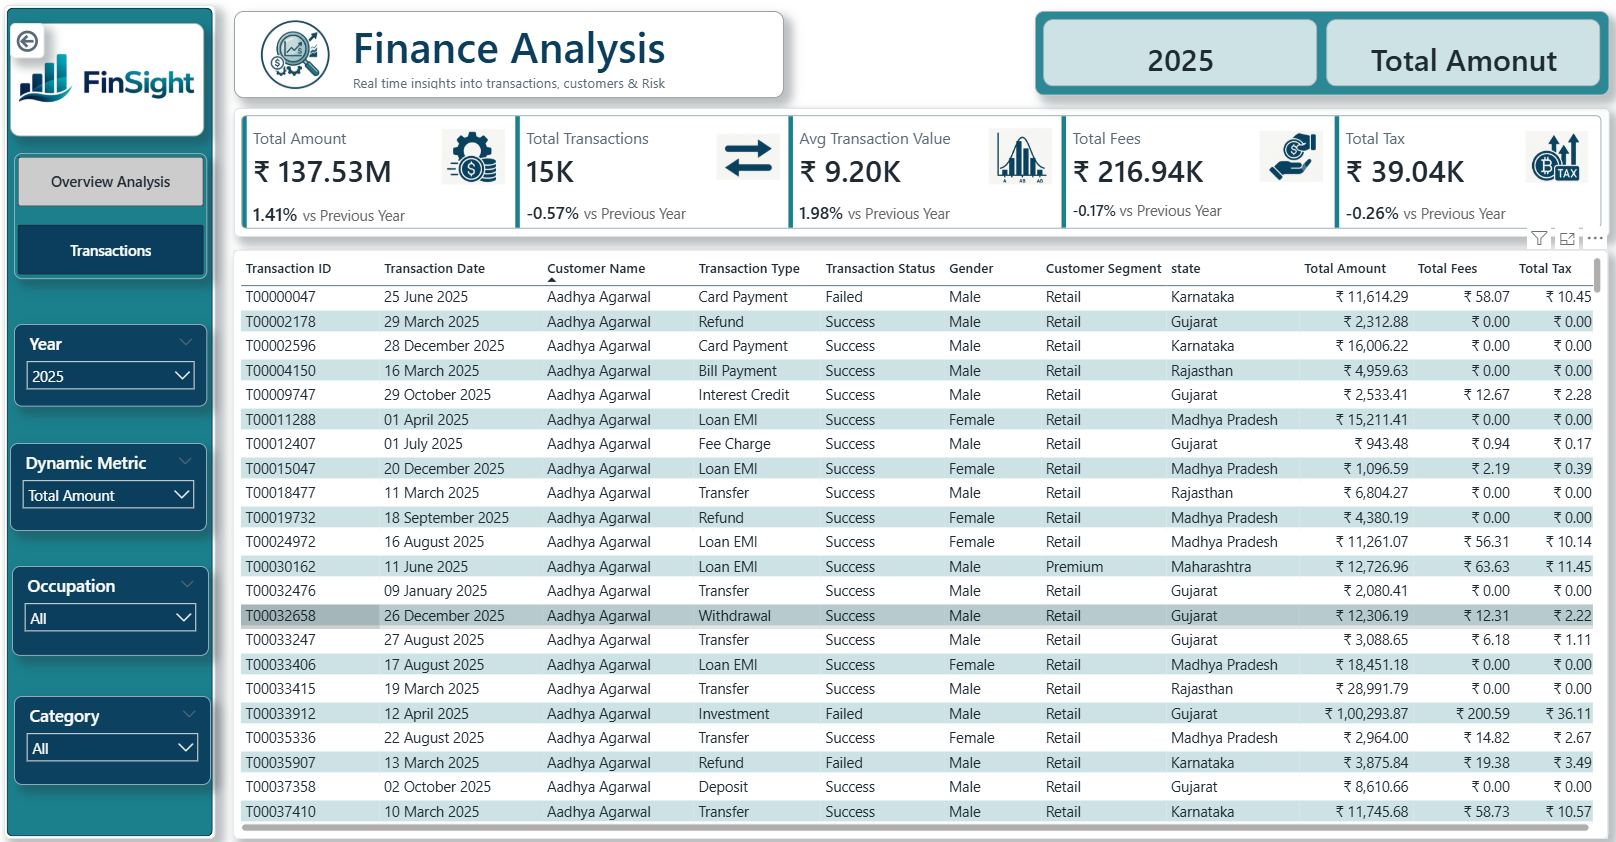

This screenshot's page, from the dashboard's own definition file:
{"tool":"powerbi","page":{"name":"Transactions","canvas":[1800,950],"ordinal":1},"visuals":[{"type":"shape","box":[9.7,18.2,232.9,919.4],"z":0},{"type":"card","fields":{"Values":["finance_transactions.Dashboard Title"]},"box":[263.7,25.5,606.4,95.5],"z":1000},{"type":"slicer","fields":{"Values":["Calendar Table.Year"]},"box":[20.6,369.9,213.5,91],"z":2000},{"type":"cardVisual","fields":{"Data":["finance_transactions.Total Amount","finance_transactions.Total Transactions","finance_transactions.Avg Transaction Value","finance_transactions.Total Fees","finance_transactions.Total Tax"]},"box":[263.2,132.2,1516.2,141.9],"z":3000},{"type":"slicer","fields":{"Values":["Dynamic Metric.Dynamic Metric"]},"box":[17,500.9,217.1,97],"z":4000},{"type":"cardVisual","fields":{"Data":["finance_transactions.Selected Year","finance_transactions.Selected Dynamic Metric"]},"box":[1146.5,25.5,633.1,93],"z":5000},{"type":"slicer","fields":{"Values":["customers.occupation"]},"box":[18.2,636.8,217.1,99.5],"z":6000},{"type":"slicer","fields":{"Values":["finance_transactions.merchant_category"]},"box":[20.6,779.9,217.1,98.2],"z":7000},{"type":"pageNavigator","box":[20.6,181.9,213.5,139.5],"z":8000},{"type":"image","box":[16.6,38.2,214,124.8],"z":9000},{"type":"tableEx","fields":{"Values":["finance_transactions.transaction_id","finance_transactions.transaction_date","customers.Customer Name","finance_transactions.transaction_type","finance_transactions.transaction_status","customers.gender","customers.customer_segment","customers.state","finance_transactions.Total Amount","finance_transactions.Total Fees","finance_transactions.Total Tax"]},"box":[262,288.7,1516.2,648.9],"z":10000},{"type":"actionButton","box":[16.6,38.2,38.2,39.5],"z":11000},{"type":"image","box":[486.6,145.2,80.3,80.3],"z":12000},{"type":"image","box":[1090.4,145.2,80.3,80.3],"z":13000},{"type":"image","box":[789.8,145.2,80.3,80.3],"z":14000},{"type":"image","box":[1388.5,145.2,80.3,80.3],"z":15000},{"type":"image","box":[1681.5,146.5,79,79],"z":16000},{"type":"image","box":[271.3,28,112.1,90.4],"z":16001}]}

Visuals, with their boxes in screenshot pixels (x1, y1, x2, y2), scaled from the page's 1800x950 canvas onto the 1616x842 screenshot:
shape: bbox=[9, 16, 218, 831]
card - finance_transactions.Dashboard Title: bbox=[237, 23, 781, 107]
slicer - Calendar Table.Year: bbox=[18, 328, 210, 409]
cardVisual - finance_transactions.Total Amount x finance_transactions.Total Transactions: bbox=[236, 117, 1598, 243]
slicer - Dynamic Metric.Dynamic Metric: bbox=[15, 444, 210, 530]
cardVisual - finance_transactions.Selected Year x finance_transactions.Selected Dynamic Metric: bbox=[1029, 23, 1598, 105]
slicer - customers.occupation: bbox=[16, 564, 211, 653]
slicer - finance_transactions.merchant_category: bbox=[18, 691, 213, 778]
pageNavigator: bbox=[18, 161, 210, 285]
image: bbox=[15, 34, 207, 144]
tableEx - finance_transactions.transaction_id x finance_transactions.transaction_date: bbox=[235, 256, 1596, 831]
actionButton: bbox=[15, 34, 49, 69]
image: bbox=[437, 129, 509, 200]
image: bbox=[979, 129, 1051, 200]
image: bbox=[709, 129, 781, 200]
image: bbox=[1247, 129, 1319, 200]
image: bbox=[1510, 130, 1581, 200]
image: bbox=[244, 25, 344, 105]
